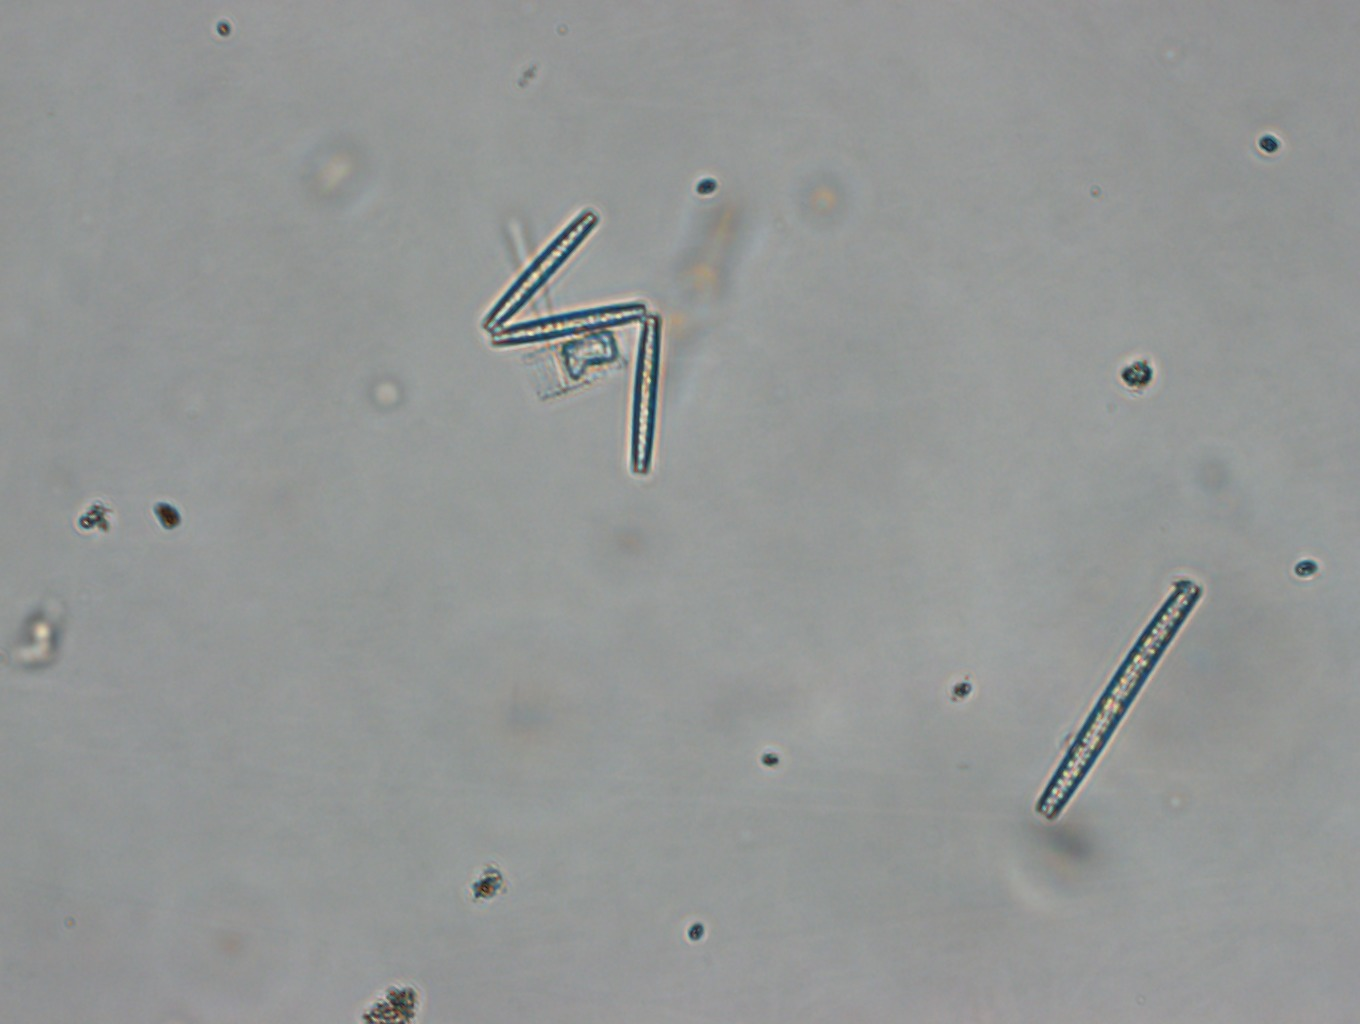thalassionema nitzschioides: (466, 189, 665, 471)
